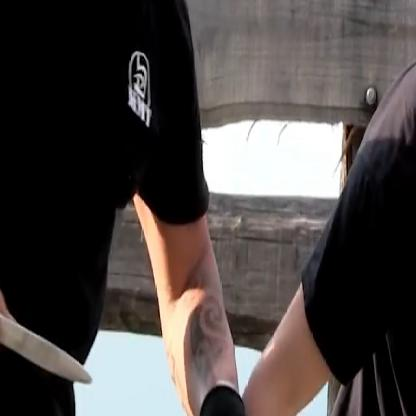knife: (0, 266, 100, 393)
